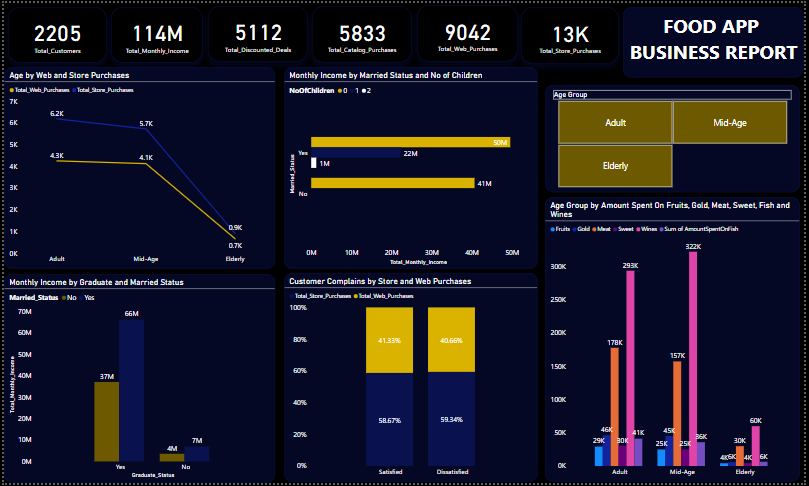

The dashboard page shown, as its layout file describes it:
{"tool":"powerbi","page":{"name":"Page 1","canvas":[2000,1200],"ordinal":0},"visuals":[{"type":"card","fields":{"Values":["DAX.Total_Customers"]},"box":[9.8,9.8,246.3,139],"z":0},{"type":"card","fields":{"Values":["DAX.Total_Discounted_Deals"]},"box":[509.8,7.3,248.8,139],"z":1000},{"type":"card","fields":{"Values":["DAX.Total_Monthly_Income"]},"box":[268.3,9.8,229.3,139],"z":2000},{"type":"card","fields":{"Values":["DAX.Total_Web_Purchases"]},"box":[1031.7,4.9,251.2,141.5],"z":3000},{"type":"card","fields":{"Values":["DAX.Total_Catalog_Purchases"]},"box":[770.7,7.3,248.8,141.5],"z":4000},{"type":"textbox","box":[1546.3,9.8,451.2,175.6],"z":5000},{"type":"lineChart","title":" Age by Web and Store Purchases","fields":{"Category":["FoodAppBusiness.Age_Categories"],"Y":["DAX.Total_Web_Purchases","DAX.Total_Store_Purchases"]},"box":[0,161,678,504.9],"z":6000},{"type":"clusteredColumnChart","title":"Monthly Income by Graduate and Married Status","fields":{"Y":["DAX.Total_Monthly_Income"],"Category":["FoodAppBusiness.Graduate_Categories"],"Series":["FoodAppBusiness.Married_Categories"]},"box":[0,678,678,522],"z":7000},{"type":"clusteredBarChart","title":"Monthly Income by Married Status and No of Children","fields":{"Y":["DAX.Total_Monthly_Income"],"Category":["FoodAppBusiness.Married_Categories"],"Series":["FoodAppBusiness.NoOfChildren"]},"box":[699.9,161,634.1,504.9],"z":8000},{"type":"hundredPercentStackedColumnChart","title":"Customer Complains by Store and Web Purchases","fields":{"Category":["FoodAppBusiness.Customer_Complain_Categories"],"Y":["DAX.Total_Store_Purchases","DAX.Total_Web_Purchases"]},"box":[699.9,675.6,634.1,522],"z":9000},{"type":"card","fields":{"Values":["DAX.Total_Store_Purchases"]},"box":[1292.7,9.8,243.9,141.5],"z":10000},{"type":"clusteredColumnChart","title":"Age Group by Amount Spent On Fruits, Gold, Meat, Sweet, Fish and Wines","fields":{"Category":["FoodAppBusiness.Age_Group"],"Y":["Sum(FoodAppBusiness.AmountSpentOnFruits)","Sum(FoodAppBusiness.AmountSpentOnGold)","Sum(FoodAppBusiness.AmountSpentOnMeat)","Sum(FoodAppBusiness.AmountSpentOnSweet)","Sum(FoodAppBusiness.AmountSpentOnWines)","Sum(FoodAppBusiness.AmountSpentOnFish)"]},"box":[1353.7,485.4,636.6,712.2],"z":11000},{"type":"slicer","fields":{"Values":["FoodAppBusiness.Age_Group"]},"box":[1353.7,204.9,636.6,268.3],"z":12000}]}

Visuals, with their boxes in screenshot pixels (x1, y1, x2, y2), scaled from the page's 2000x1200 canvas onto the 809x486 screenshot:
card - DAX.Total_Customers: BBox(4, 4, 104, 60)
card - DAX.Total_Discounted_Deals: BBox(206, 3, 307, 59)
card - DAX.Total_Monthly_Income: BBox(109, 4, 201, 60)
card - DAX.Total_Web_Purchases: BBox(417, 2, 519, 59)
card - DAX.Total_Catalog_Purchases: BBox(312, 3, 412, 60)
textbox: BBox(625, 4, 808, 75)
" Age by Web and Store Purchases" lineChart: BBox(0, 65, 274, 270)
"Monthly Income by Graduate and Married Status" clusteredColumnChart: BBox(0, 275, 274, 485)
"Monthly Income by Married Status and No of Children" clusteredBarChart: BBox(283, 65, 540, 270)
"Customer Complains by Store and Web Purchases" hundredPercentStackedColumnChart: BBox(283, 274, 540, 485)
card - DAX.Total_Store_Purchases: BBox(523, 4, 622, 61)
"Age Group by Amount Spent On Fruits, Gold, Meat, Sweet, Fish and Wines" clusteredColumnChart: BBox(548, 197, 805, 485)
slicer - FoodAppBusiness.Age_Group: BBox(548, 83, 805, 192)
